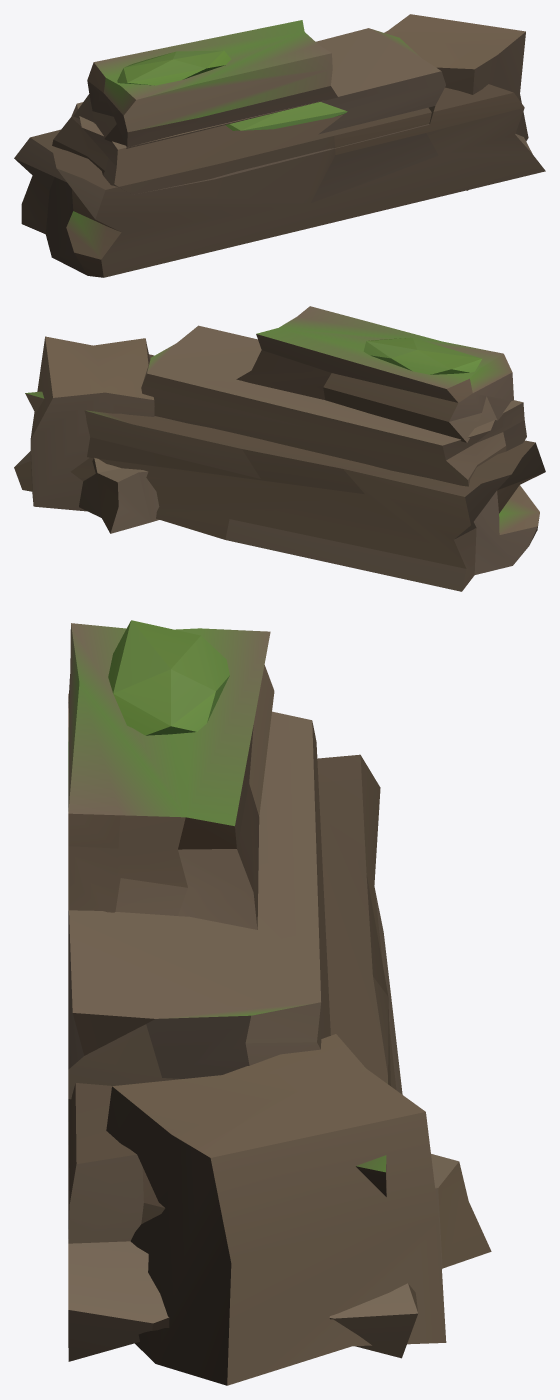
The model's file is cave_rockform_terrace_v3.fbx.
The picture shows the model from 3 angles, top to bottom: view 1: azimuth 30°, elevation 25°; view 2: azimuth 150°, elevation 25°; view 3: azimuth 270°, elevation 25°; orthographic projection. The views are drawn at different scales.
Visible parts, largest first — view 1: cave_rockform_terrace_v3; view 2: cave_rockform_terrace_v3; view 3: cave_rockform_terrace_v3.
Boxes of the visible parts, <box> form: cave_rockform_terrace_v3: <box>14,14,545,277</box>; cave_rockform_terrace_v3: <box>14,306,545,591</box>; cave_rockform_terrace_v3: <box>68,620,491,1385</box>.
Size of the model in its own units: 2044 by 758 by 783.
